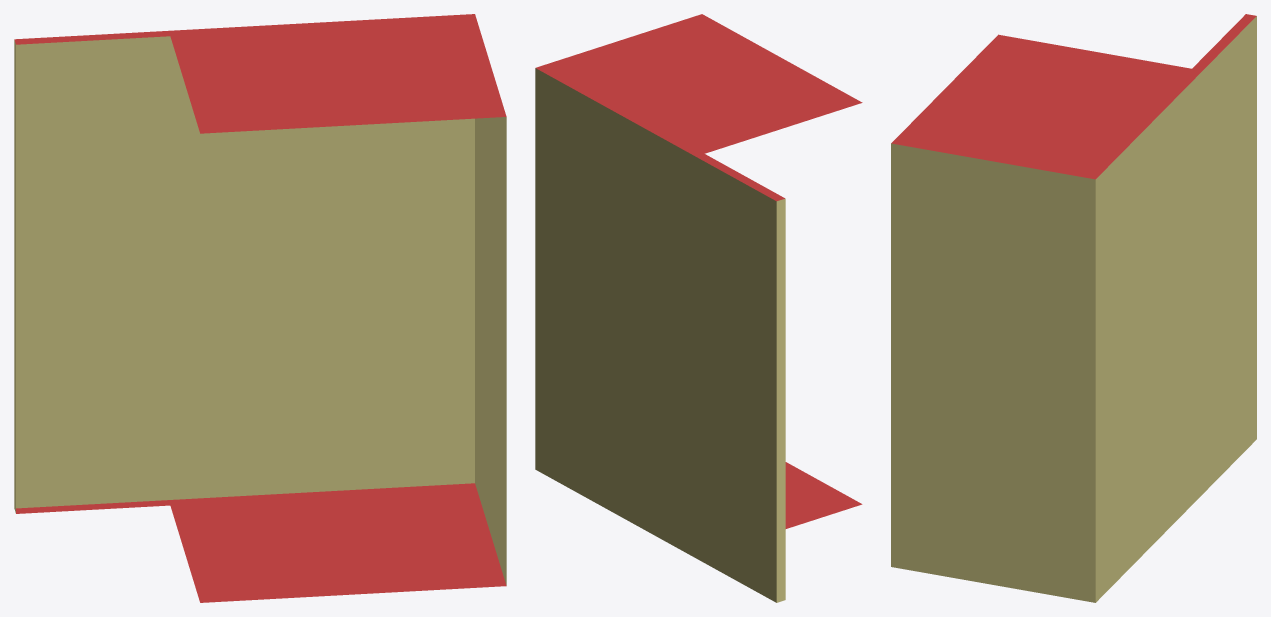
3 renders of one model, left to right at view 1: azimuth 30°, elevation 25°; view 2: azimuth 150°, elevation 25°; view 3: azimuth 270°, elevation 25°, orthographic. The views are drawn at different scales.
Size of the model in its own units: 6.34 by 5.92 by 7.56.
